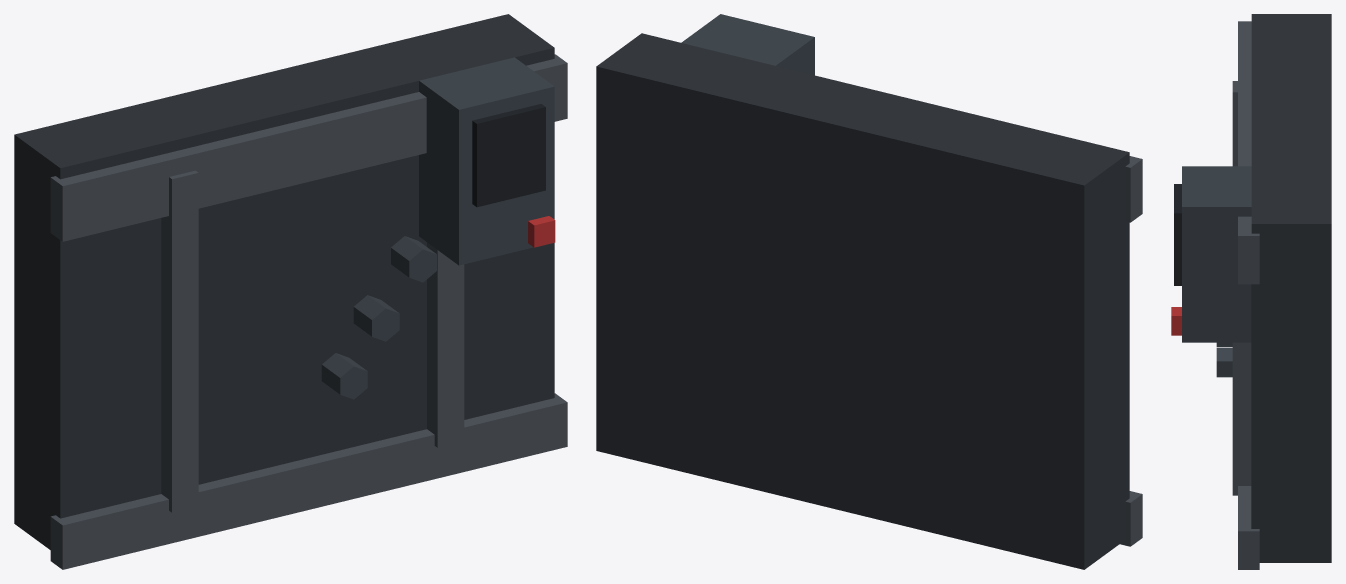
File: inf_warden_plate_chest.fbx
The picture shows the model from 3 angles, left to right: view 1: azimuth 30°, elevation 25°; view 2: azimuth 150°, elevation 25°; view 3: azimuth 270°, elevation 25°; orthographic projection. The views are drawn at different scales.
Visible parts, largest first — view 1: inf_warden_plate_chest; view 2: inf_warden_plate_chest; view 3: inf_warden_plate_chest.
Part boxes in pixels (<box>): inf_warden_plate_chest: <box>14,14,567,569</box>; inf_warden_plate_chest: <box>596,14,1142,569</box>; inf_warden_plate_chest: <box>1171,14,1331,569</box>.
Bounding box in the file's own units: 190 × 142 × 60.
